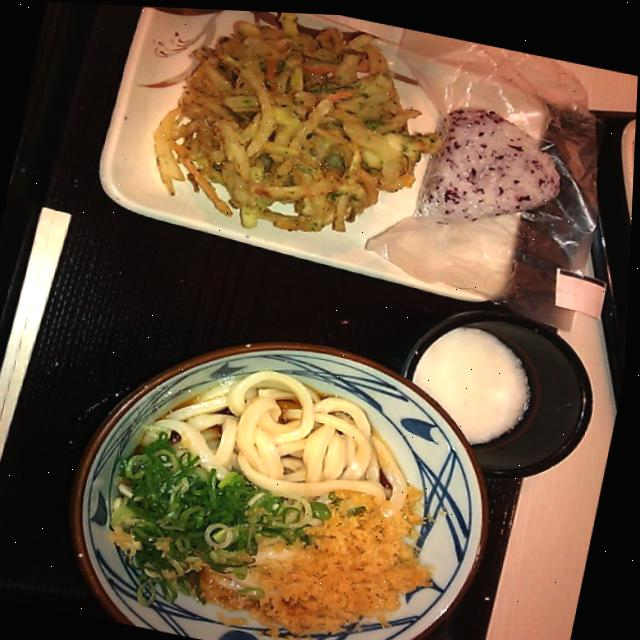米饭主食: (409, 87, 585, 259)
蔬菜料理: (151, 6, 437, 253)
面条主食: (61, 307, 512, 640)
